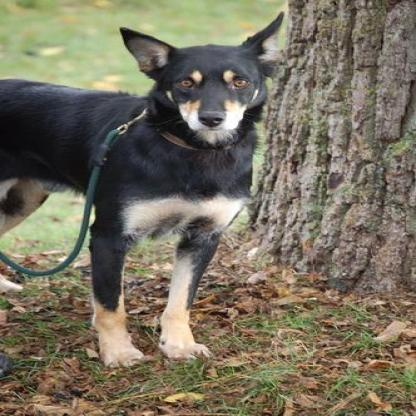kelpie: (0, 12, 282, 364)
